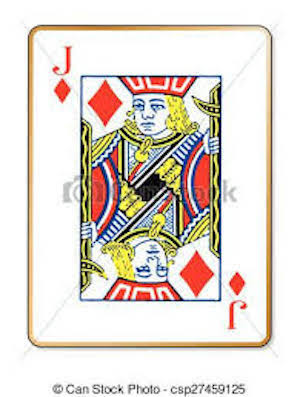JackOfDiamonds: (18, 18, 279, 355)
